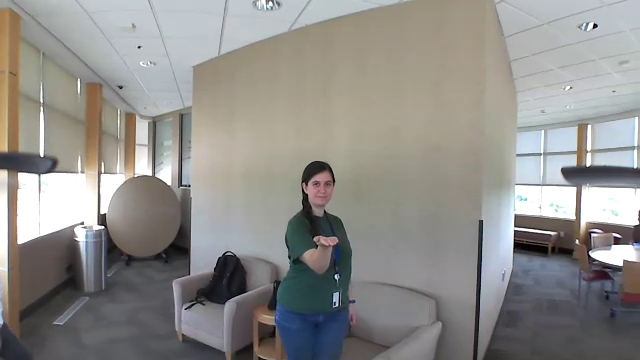land: (311, 232, 343, 250)
